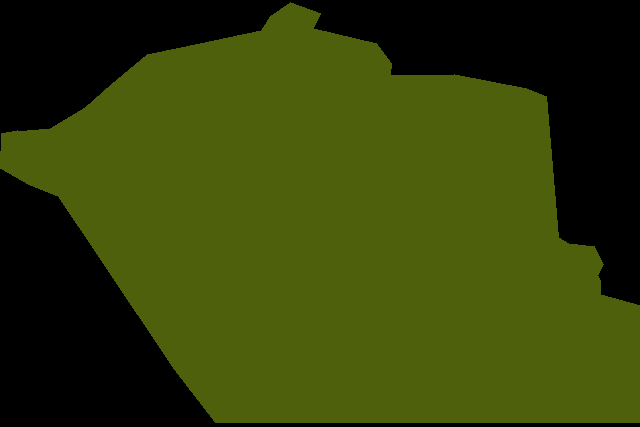Train: (0, 2, 640, 423)
